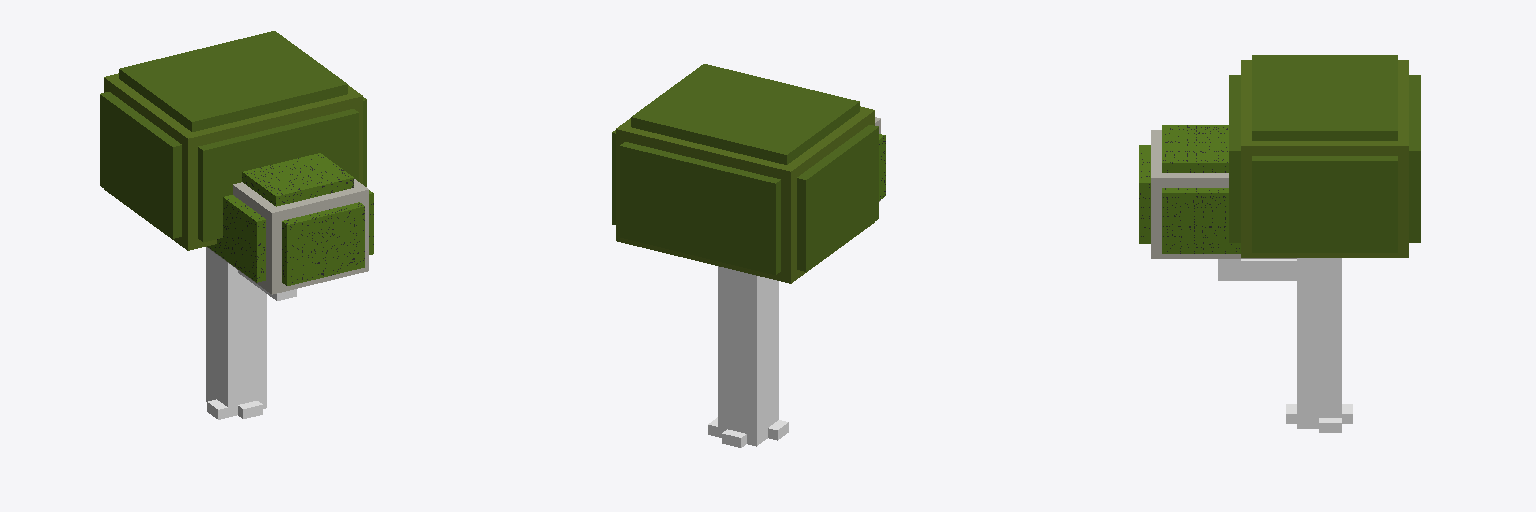
3 views of the same model, side by side, from view 1: azimuth 30°, elevation 25°; view 2: azimuth 150°, elevation 25°; view 3: azimuth 270°, elevation 25° (orthographic).
Visible parts, largest first — view 1: VoxelMesh0; view 2: VoxelMesh0; view 3: VoxelMesh0.
Part boxes in pixels (x1,y1,x2,y2): VoxelMesh0: (100,31,373,419); VoxelMesh0: (612,64,885,447); VoxelMesh0: (1139,55,1420,432).
Size of the model in its own units: 20 by 32 by 25.
1 materials, 1 textured.